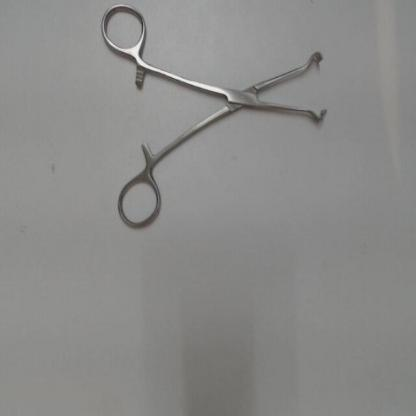Babcock Tissue Forceps: (96, 2, 334, 235)
